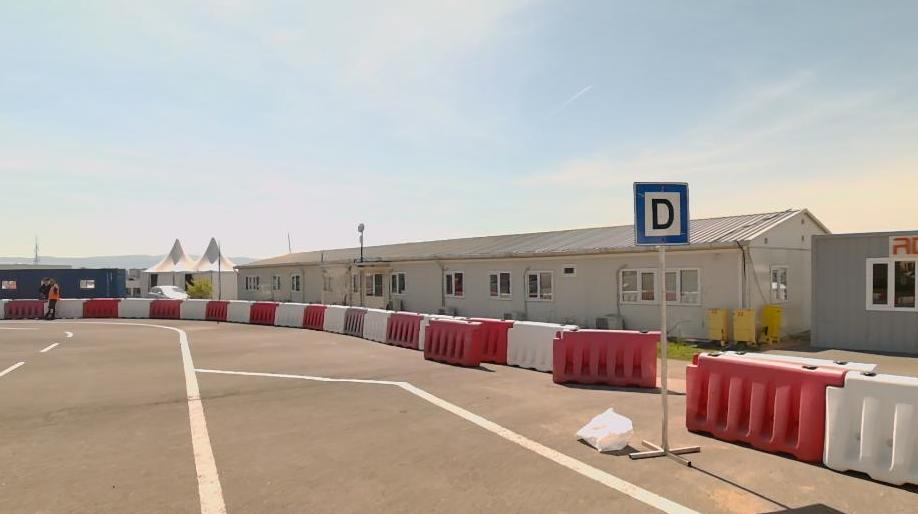nesne: (184, 368, 700, 514), (195, 367, 700, 512), (0, 319, 226, 513), (0, 319, 226, 512), (1, 319, 226, 512), (684, 352, 843, 463), (821, 370, 917, 485), (552, 328, 659, 385), (0, 324, 72, 377), (633, 181, 690, 245), (505, 319, 576, 370), (577, 405, 633, 453), (424, 318, 480, 362), (471, 317, 510, 362), (420, 312, 464, 350), (385, 312, 423, 350), (362, 308, 389, 342), (274, 302, 308, 327), (248, 301, 278, 324), (43, 276, 59, 318), (5, 300, 41, 318), (83, 298, 117, 317), (343, 307, 364, 337), (118, 297, 148, 318), (323, 305, 344, 333), (149, 298, 179, 317), (227, 300, 252, 322), (303, 304, 324, 330), (146, 284, 189, 296), (180, 298, 205, 318), (57, 298, 83, 317), (206, 299, 226, 321), (0, 361, 24, 376), (40, 341, 58, 352), (1, 326, 38, 329), (62, 330, 73, 337)
